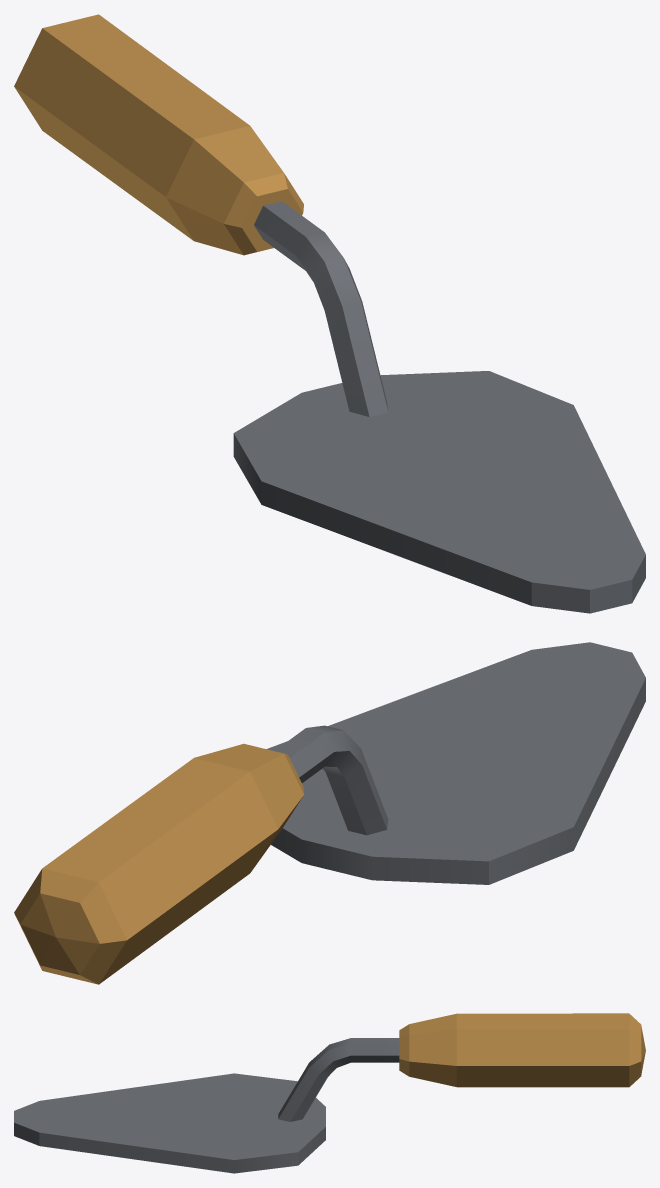
Rendered from SM_Tool_Trowel_02.glb.
3 renders of one model, top to bottom at view 1: azimuth 30°, elevation 25°; view 2: azimuth 150°, elevation 25°; view 3: azimuth 270°, elevation 25°, orthographic. The views are drawn at different scales.
Parts seen in each view (by area): view 1: SM_Tool_Trowel_02; view 2: SM_Tool_Trowel_02; view 3: SM_Tool_Trowel_02.
Boxes of the visible parts, x1=… form: SM_Tool_Trowel_02: x1=14, y1=14, x2=645, y2=613; SM_Tool_Trowel_02: x1=14, y1=642, x2=645, y2=984; SM_Tool_Trowel_02: x1=14, y1=1013, x2=645, y2=1173.
Bounding box in the file's own units: 0.1426 × 0.0835 × 0.4391.
Materials: 1 (1 with a texture image).
